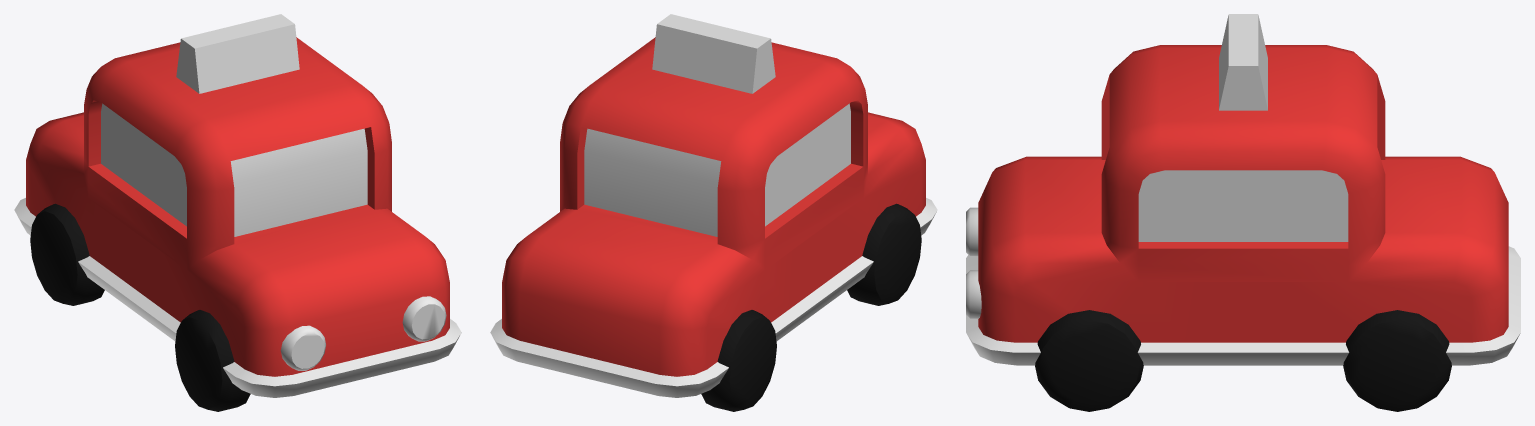
Rendered from car3.fbx.
3 renders of one model, left to right at view 1: azimuth 30°, elevation 25°; view 2: azimuth 150°, elevation 25°; view 3: azimuth 270°, elevation 25°, orthographic. The views are drawn at different scales.
Visible parts, largest first — view 1: Cube; view 2: Cube; view 3: Cube.
Boxes of the visible parts, <box> form: Cube: <box>14,14,461,411</box>; Cube: <box>490,14,937,411</box>; Cube: <box>966,14,1520,411</box>.
Bounding box in the file's own units: 2.31 × 2.85 × 4.5.
